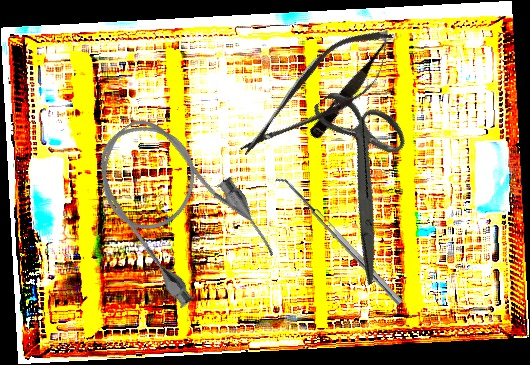Cannula: (73, 94, 284, 319)
Iris Scissors: (259, 72, 466, 287)
Micro Scissor: (224, 12, 411, 176), (307, 33, 399, 143)
Spatula Surgical: (273, 172, 403, 311)
